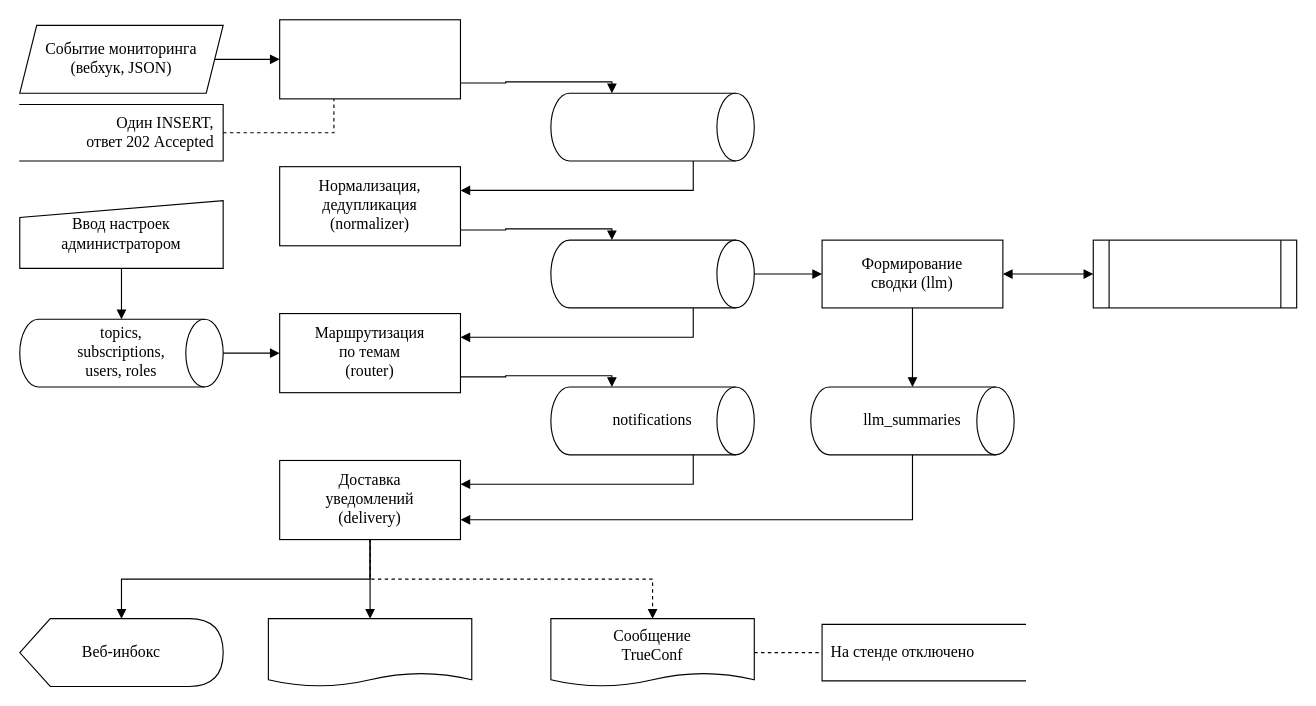
Some shapes in this 1316 by 706 pixel diagram are drawn without their labels. The centre of each missing label's shape, as x and y in pixels:
"incidents, incident_events, monitored_objects" belongs at [652,273].
"raw_events" belongs at [652,126].
"Приём события (backend)" belongs at [369,59].
"Электронное письмо" belongs at [369,652].
"Языковая модель" belongs at [1194,273].
